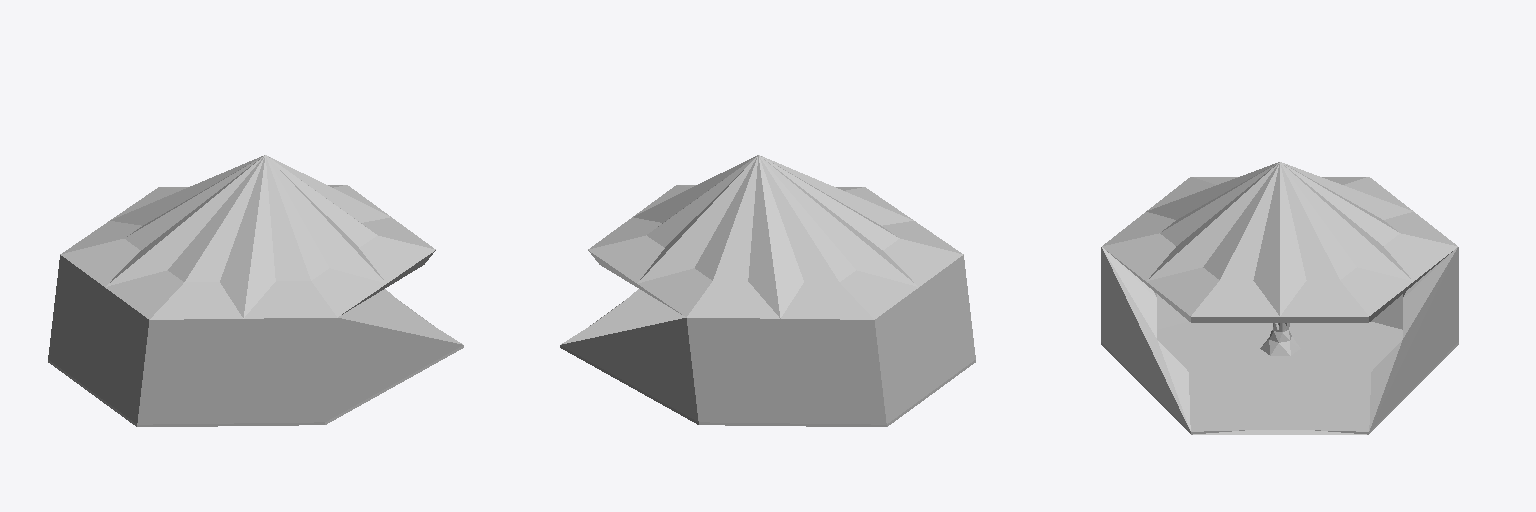
The model's file is Chengyuan_Shi.obj.
3 renders of one model, left to right at view 1: azimuth 30°, elevation 25°; view 2: azimuth 150°, elevation 25°; view 3: azimuth 270°, elevation 25°, orthographic.
Parts seen in each view (by area): view 1: Mesh3 Model-25, Mesh3 Model-10, Mesh3 Model-21, Mesh3 Model-27, Mesh3 Model-8, Mesh3 Model-43, Mesh3 Model-60, Mesh3 Model-23, Mesh3 Model-39, Mesh3 Model-41, Mesh3 Model-26, Mesh3 Model-59 (+16 smaller); view 2: Mesh3 Model-10, Mesh3 Model-34, Mesh3 Model-8, Mesh3 Model-18, Mesh3 Model-4, Mesh3 Model-23, Mesh3 Model-12, Mesh3 Model-14, Mesh3 Model-2, Mesh3 Model-60, Mesh3 Model-50, Mesh3 Model-11 (+14 smaller); view 3: Mesh3 Model-23, Mesh3 Model-21, Mesh3 Model-34, Mesh3 Model-52, Mesh3 Model-20, Mesh3 Model-62, Mesh3 Model-43, Mesh3 Model-48, Mesh3 Model-66, Mesh3 Model-22, Mesh3 Model-41, Mesh3 Model-50 (+19 smaller).
Boxes of the visible parts, <box> form: Mesh3 Model-25: <box>137,318,336,424</box>; Mesh3 Model-10: <box>48,255,148,423</box>; Mesh3 Model-21: <box>325,318,462,421</box>; Mesh3 Model-27: <box>243,155,310,318</box>; Mesh3 Model-8: <box>106,156,263,286</box>; Mesh3 Model-43: <box>267,157,386,283</box>; Mesh3 Model-60: <box>150,158,264,318</box>; Mesh3 Model-23: <box>338,289,462,344</box>; Mesh3 Model-39: <box>184,156,264,282</box>; Mesh3 Model-41: <box>266,156,336,315</box>; Mesh3 Model-26: <box>244,282,336,318</box>; Mesh3 Model-59: <box>150,282,242,319</box>; Mesh3 Model-10: <box>687,255,975,424</box>; Mesh3 Model-34: <box>561,318,698,421</box>; Mesh3 Model-8: <box>760,156,917,286</box>; Mesh3 Model-18: <box>637,157,756,283</box>; Mesh3 Model-4: <box>759,158,803,317</box>; Mesh3 Model-23: <box>561,289,685,344</box>; Mesh3 Model-12: <box>748,155,780,318</box>; Mesh3 Model-14: <box>713,157,757,280</box>; Mesh3 Model-2: <box>759,156,839,282</box>; Mesh3 Model-60: <box>762,156,962,254</box>; Mesh3 Model-50: <box>589,155,757,249</box>; Mesh3 Model-11: <box>687,282,779,318</box>; Mesh3 Model-23: <box>1157,322,1402,431</box>; Mesh3 Model-21: <box>1101,247,1190,431</box>; Mesh3 Model-34: <box>1369,247,1458,431</box>; Mesh3 Model-52: <box>1280,163,1339,315</box>; Mesh3 Model-20: <box>1369,247,1457,430</box>; Mesh3 Model-62: <box>1191,163,1279,315</box>; Mesh3 Model-43: <box>1147,163,1278,280</box>; Mesh3 Model-48: <box>1281,163,1412,280</box>; Mesh3 Model-66: <box>1253,164,1279,315</box>; Mesh3 Model-22: <box>1102,248,1190,430</box>; Mesh3 Model-41: <box>1102,163,1277,246</box>; Mesh3 Model-50: <box>1280,162,1368,315</box>.
Bounding box in the file's own units: 3315 × 1920 × 3138.